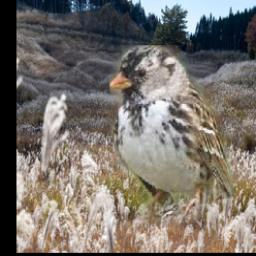Sparrow: (110, 45, 234, 226)
